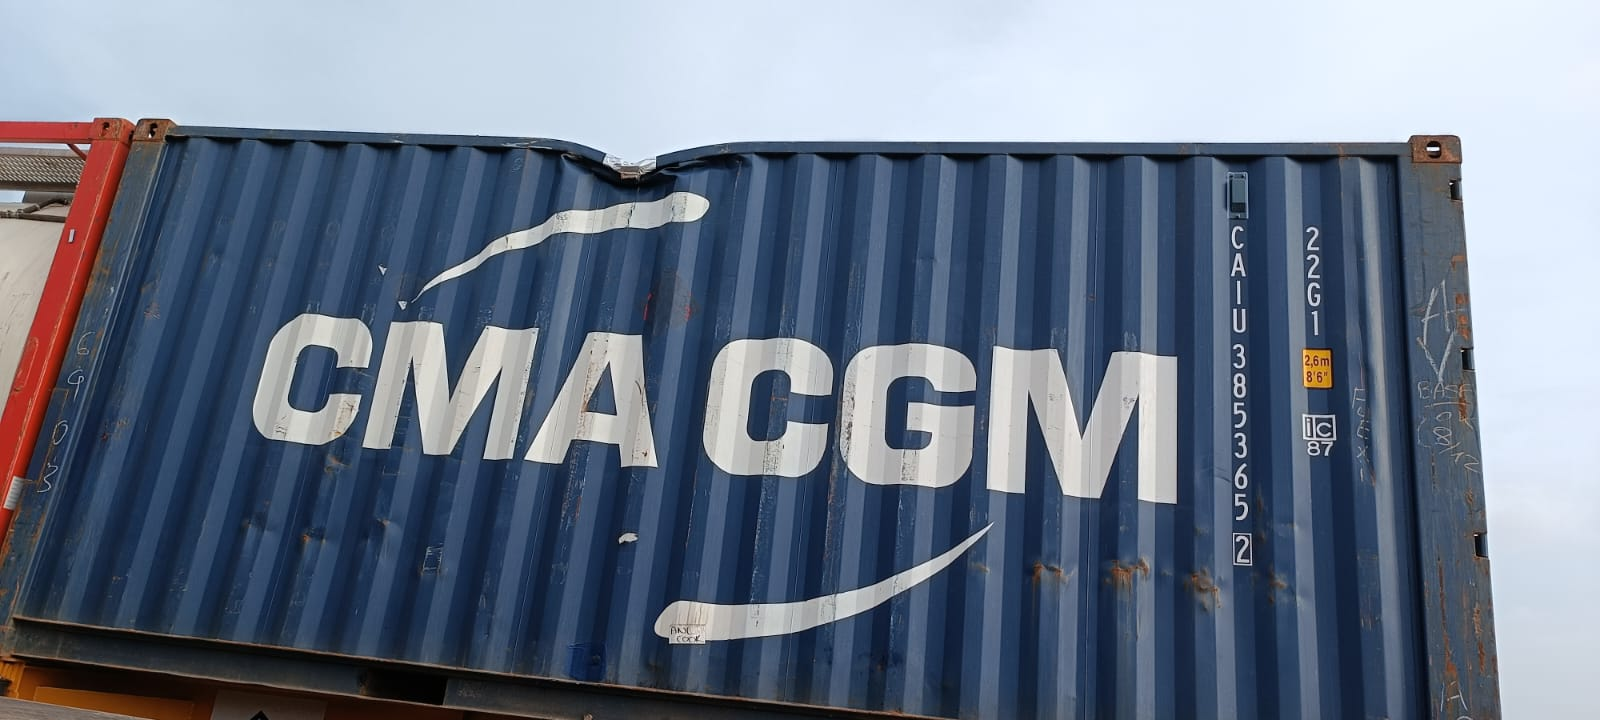moderate: (241, 464, 431, 570), (1017, 528, 1245, 616), (541, 133, 719, 217)
